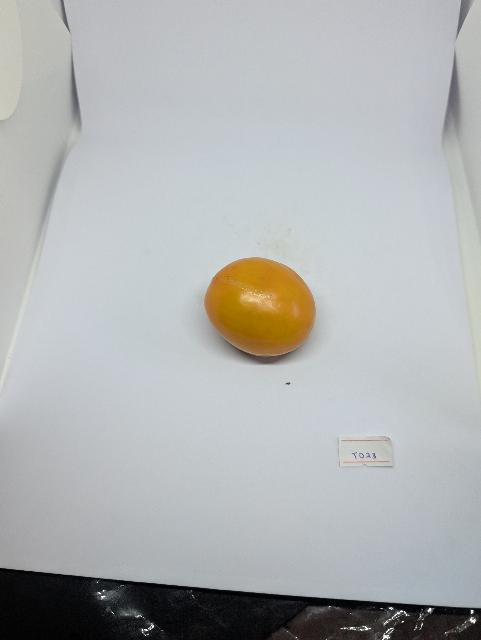turning: (192, 241, 333, 370)
